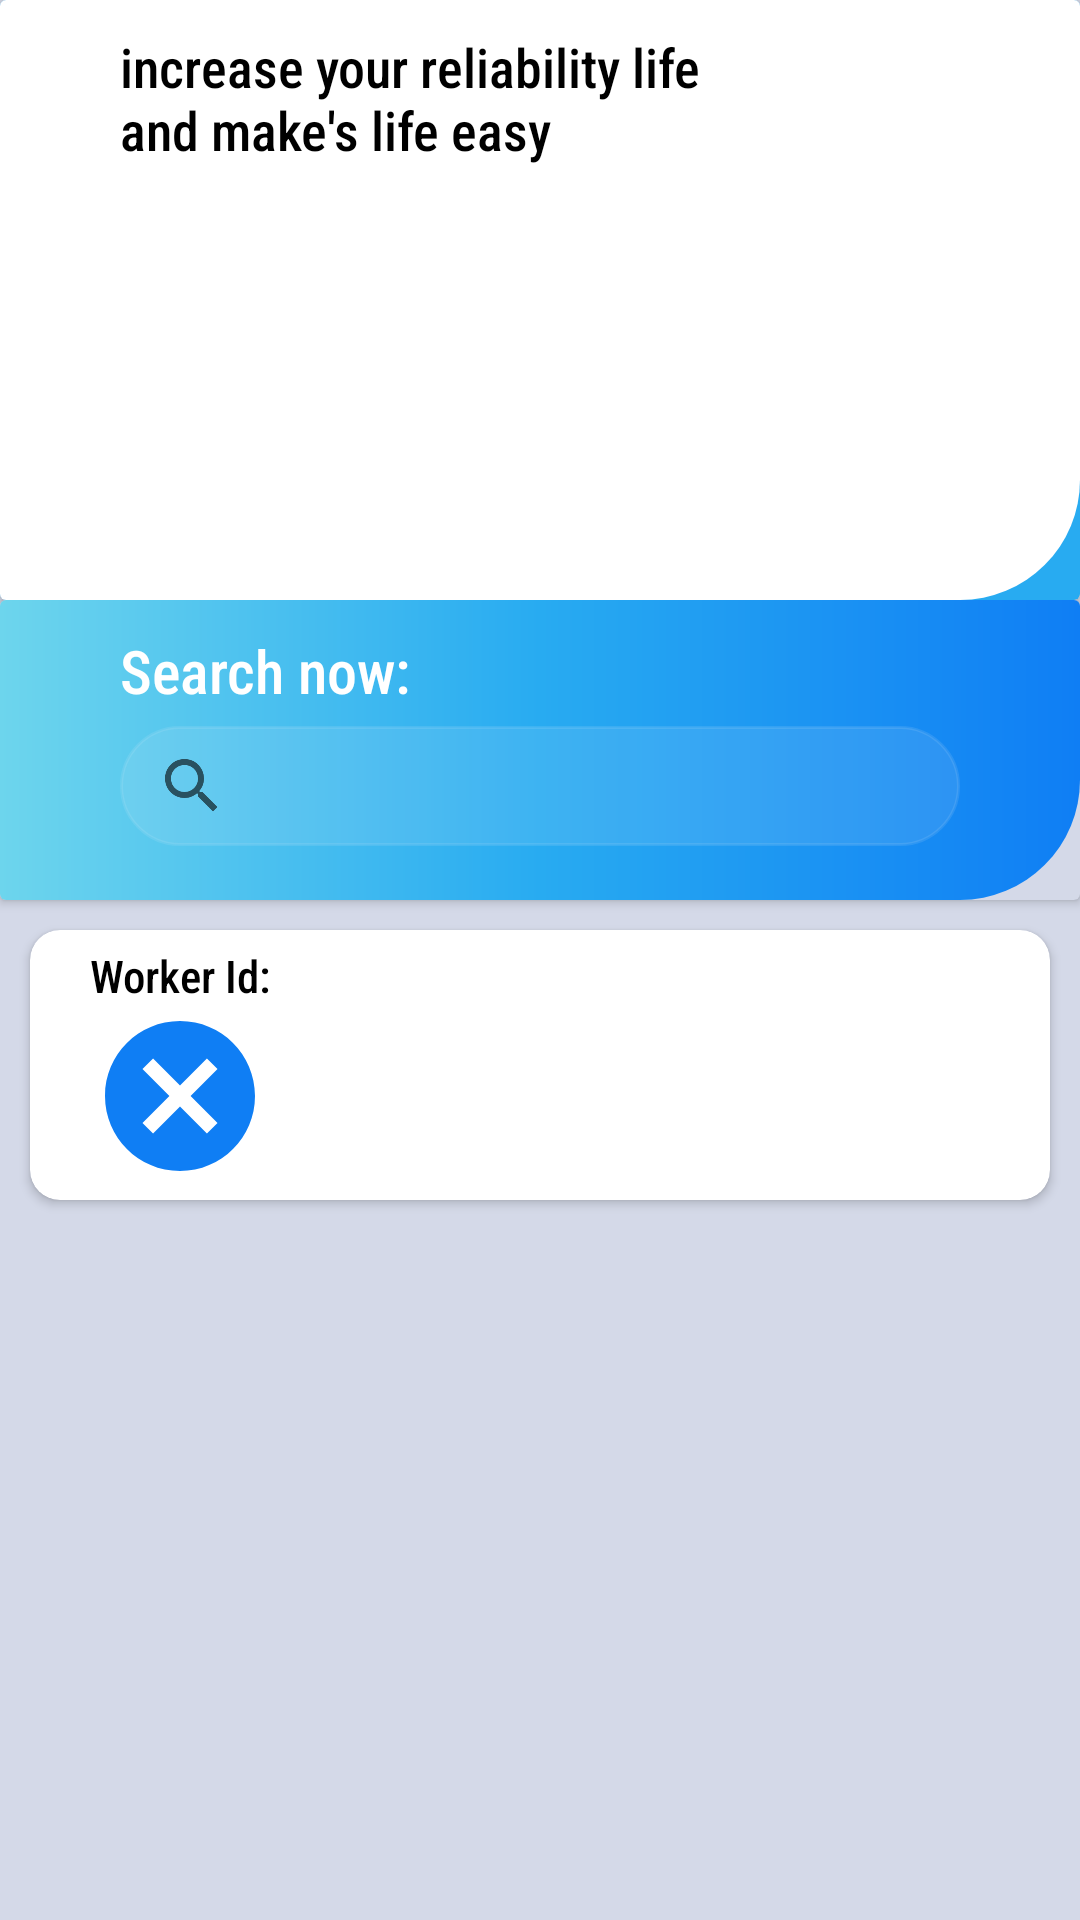

Named icons in this screenshot (1080w x 1920h) and their bounding boxes, (x1, y1, x2, y2):
cancel: (105, 1021, 255, 1171)
